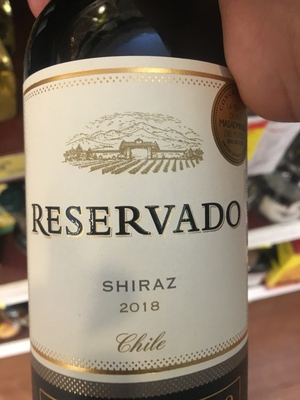reservado shiraz: (24, 14, 254, 400)
